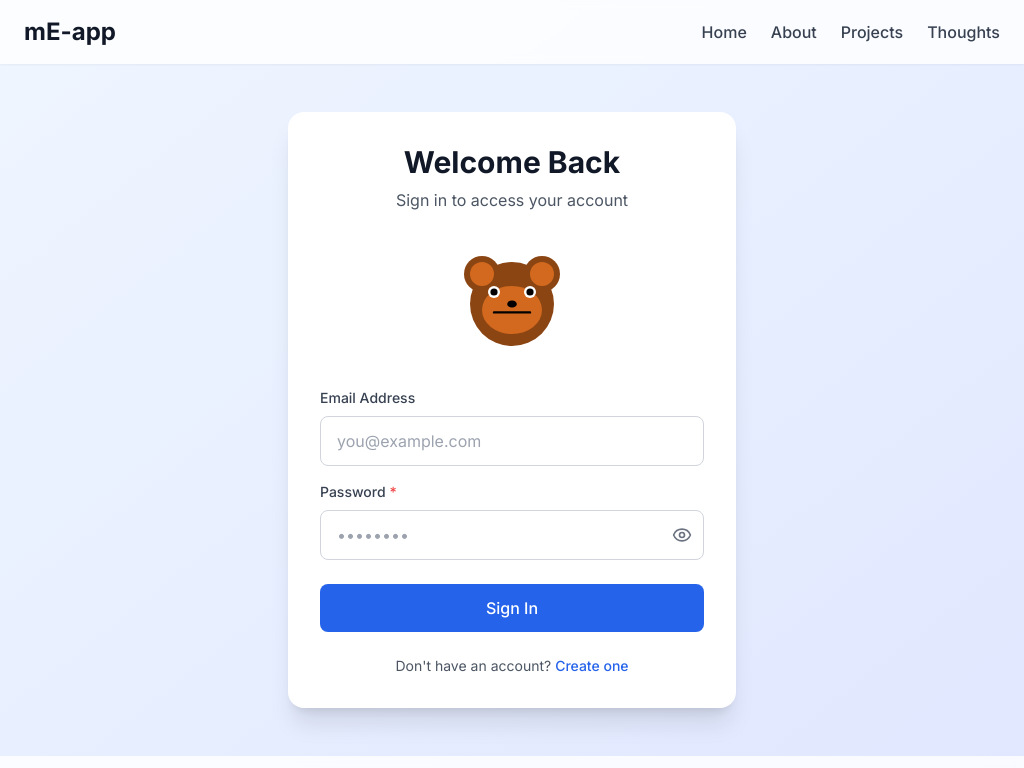
Test case: Login Page › Form Validation › should not submit form with validation errors
This screenshot has width=1024, height=768.
Click the button "Sign In": x=512, y=608 [320,584,704,632]
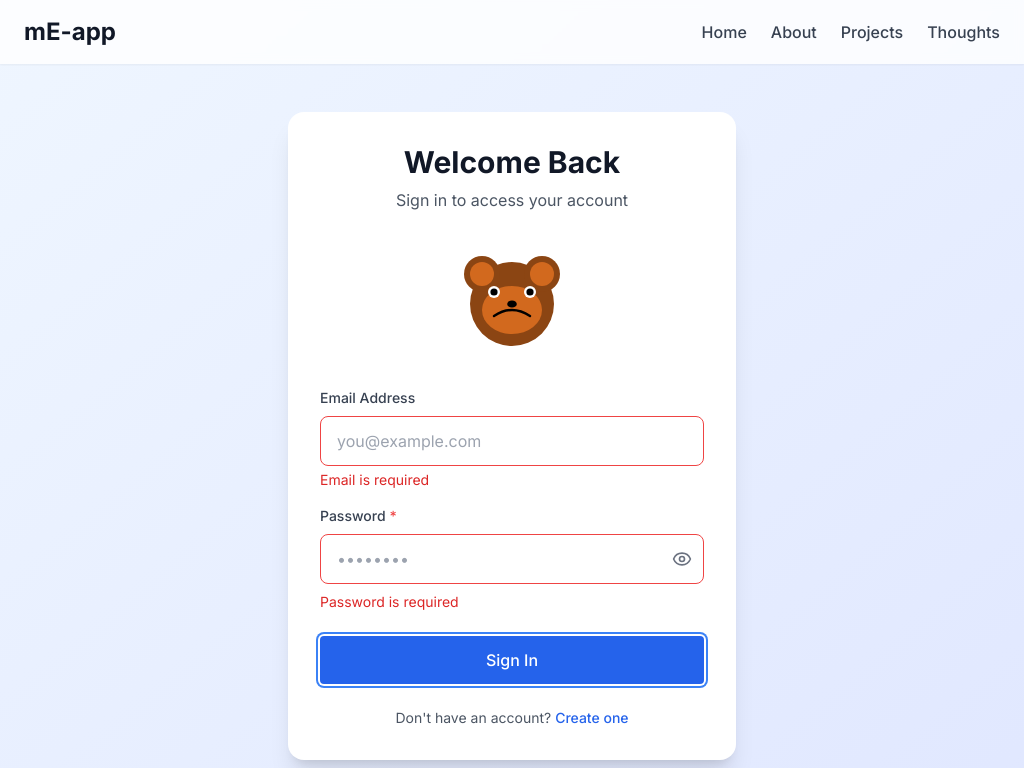
Result: the text "Email is required" is shown at [320,471,429,488]
Result: the text "Password is required" is shown at [320,593,459,610]
